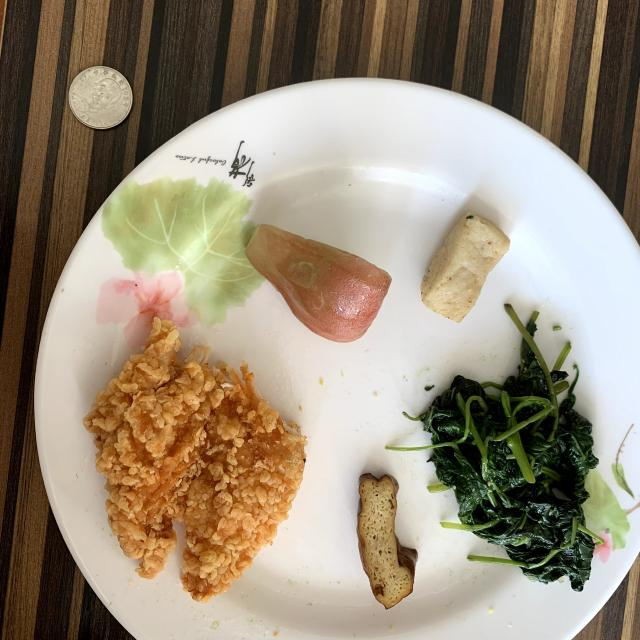coin: (69, 66, 132, 129)
creamy tofu -without sauce-: (421, 212, 510, 322)
firm tofu: (358, 474, 418, 609)
fried chicken cutlet: (84, 318, 306, 602)
sweet potato leaves: (410, 314, 599, 591)
